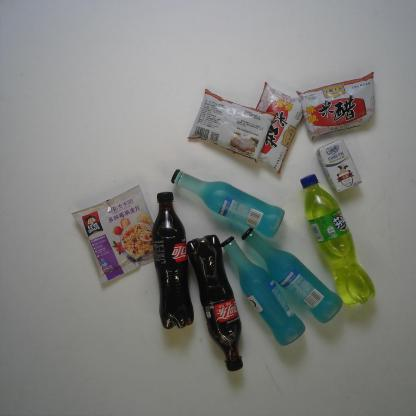Alcohol: (217, 235, 310, 347), (242, 224, 345, 324), (170, 164, 288, 242)
Drink: (297, 172, 377, 310), (186, 232, 251, 375), (149, 192, 196, 333)
Instant Drink: (71, 184, 167, 290)
Milk: (315, 138, 363, 195)
Seasoner: (184, 84, 277, 165), (294, 71, 381, 138), (243, 82, 304, 177)
